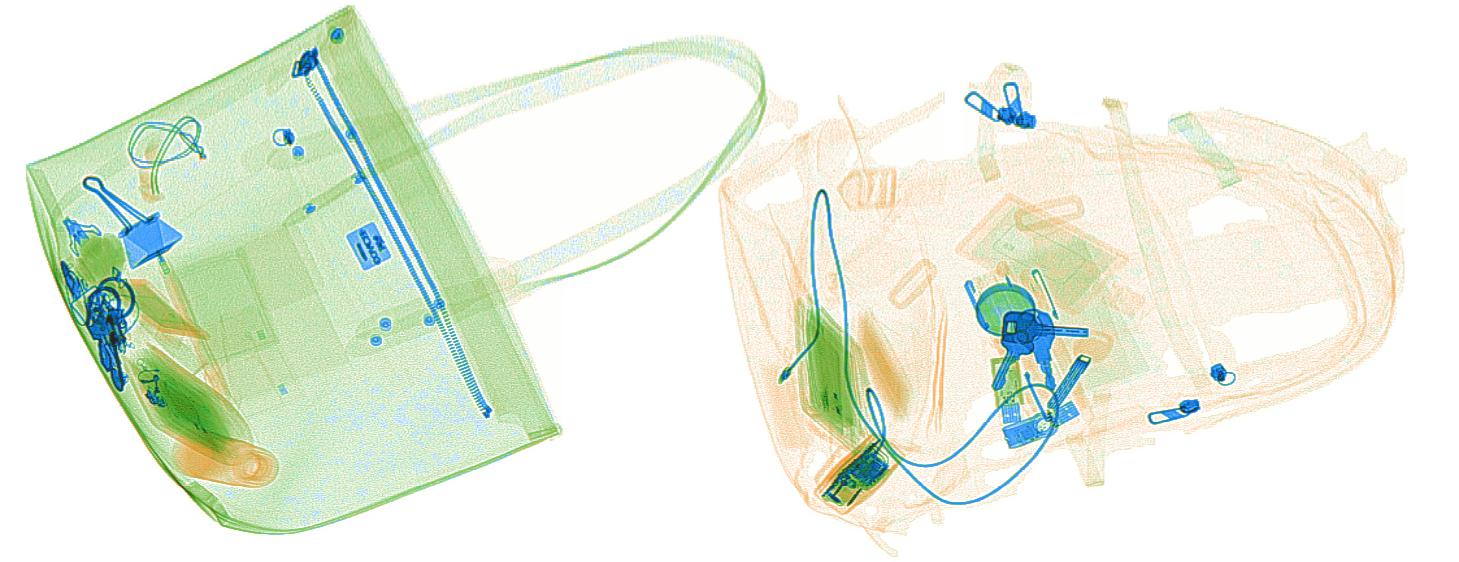USBFlashDisk: (1003, 400, 1078, 448), (990, 353, 1022, 420)
